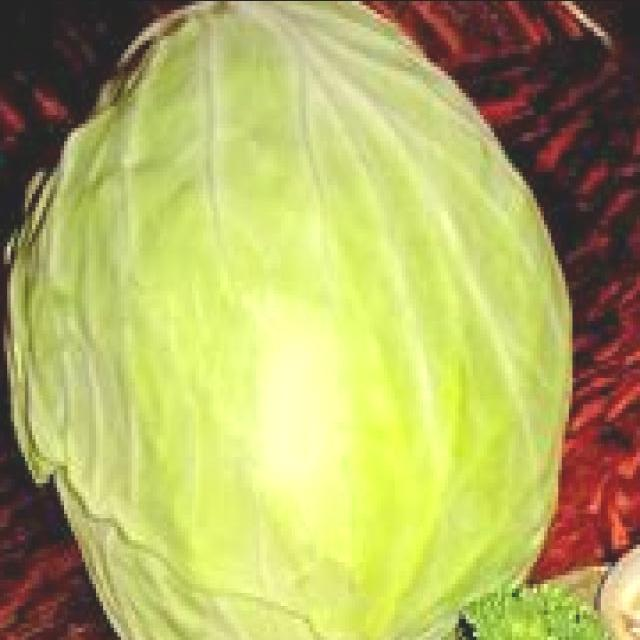cabbage: (10, 0, 575, 640)
